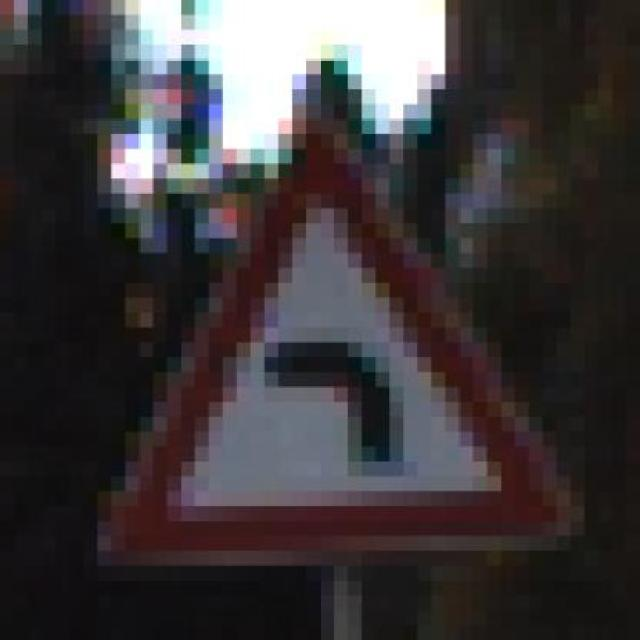Dangerous Left Curve Ahead: (83, 59, 599, 566)
